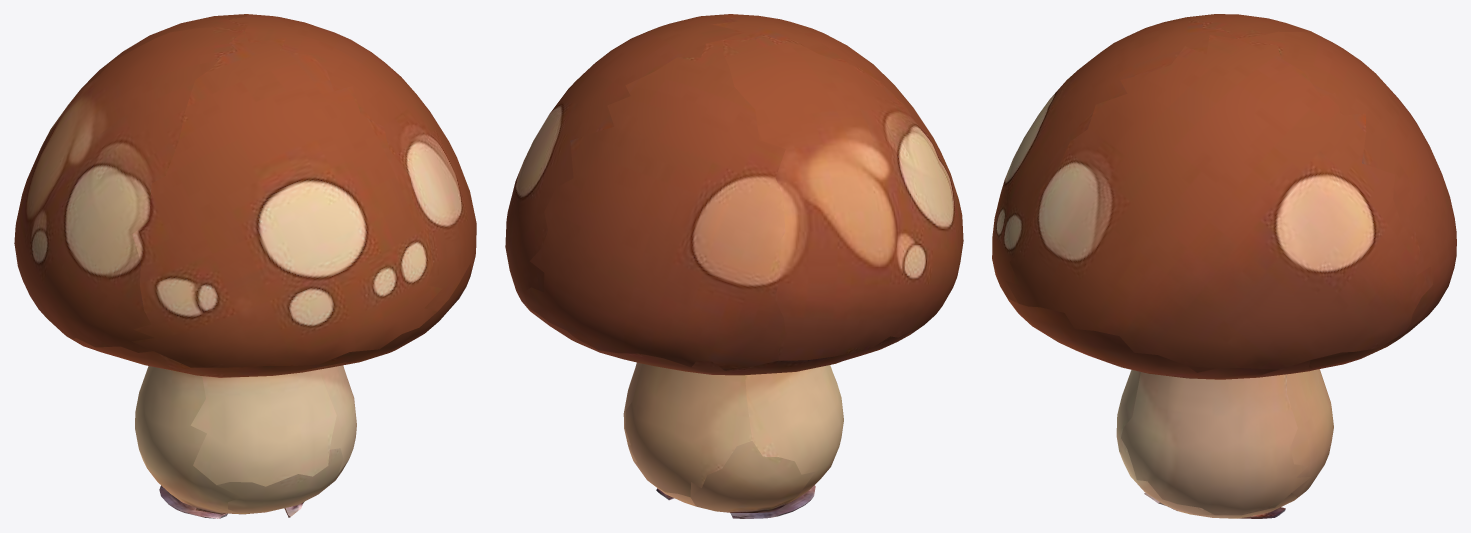
File: mushroom.glb
3 views of the same model, side by side, from view 1: azimuth 30°, elevation 25°; view 2: azimuth 150°, elevation 25°; view 3: azimuth 270°, elevation 25° (orthographic).
Parts seen in each view (by area): view 1: item_mushroom; view 2: item_mushroom; view 3: item_mushroom.
Part boxes in pixels (left/top/right/bottom): item_mushroom: left=14, top=14, right=476, bottom=518; item_mushroom: left=505, top=14, right=963, bottom=518; item_mushroom: left=992, top=14, right=1456, bottom=518.
Size of the model in its own units: 0.9181 by 1 by 0.9179.
Materials: 1 (1 with a texture image).
